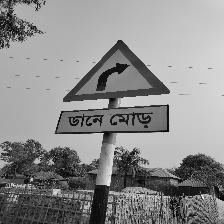Right-turn: (56, 41, 172, 134)
